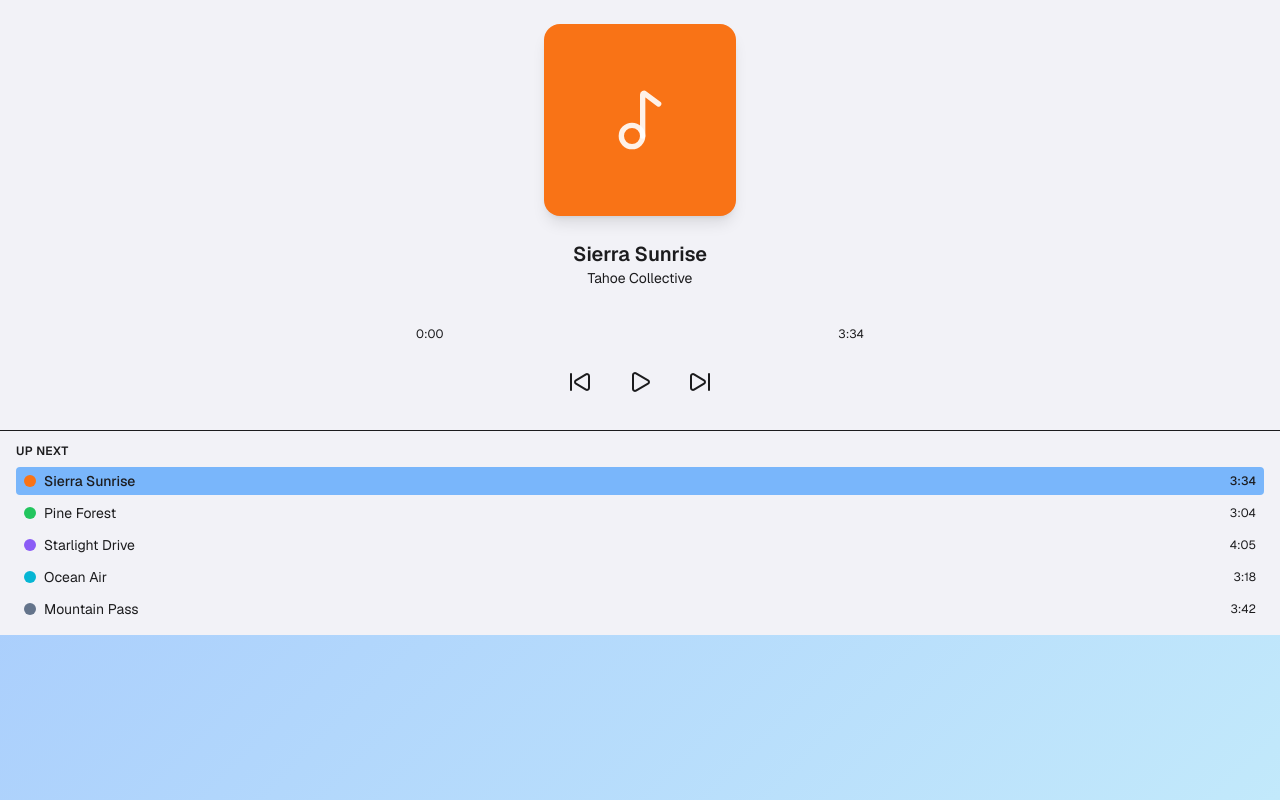
Test: Music › selects and plays a song from the list
Step 1. Click the button with test id "music-song-4" → (76, 577), box top-left (16, 563), bottom-right (1264, 591)
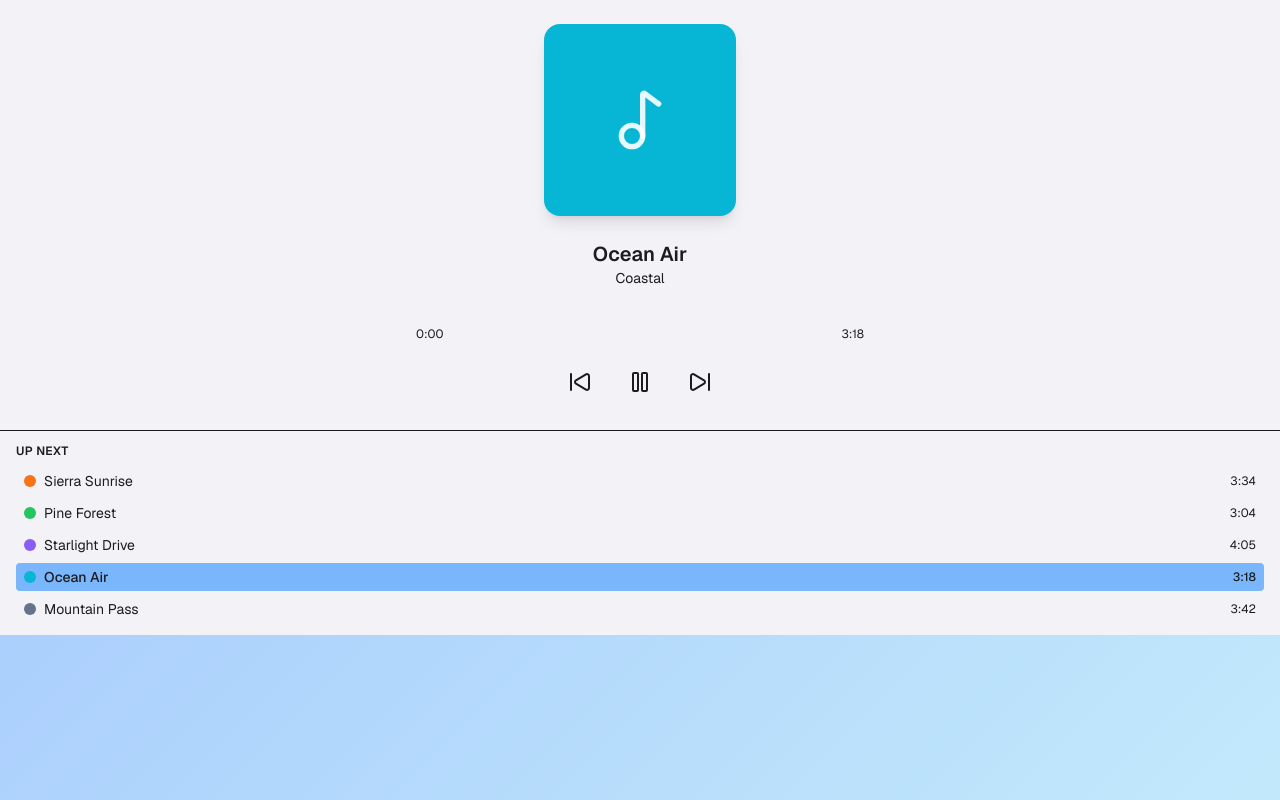
Result: the text with test id "music-title" reads "Ocean Air" at top-left (593, 241), bottom-right (687, 267)
